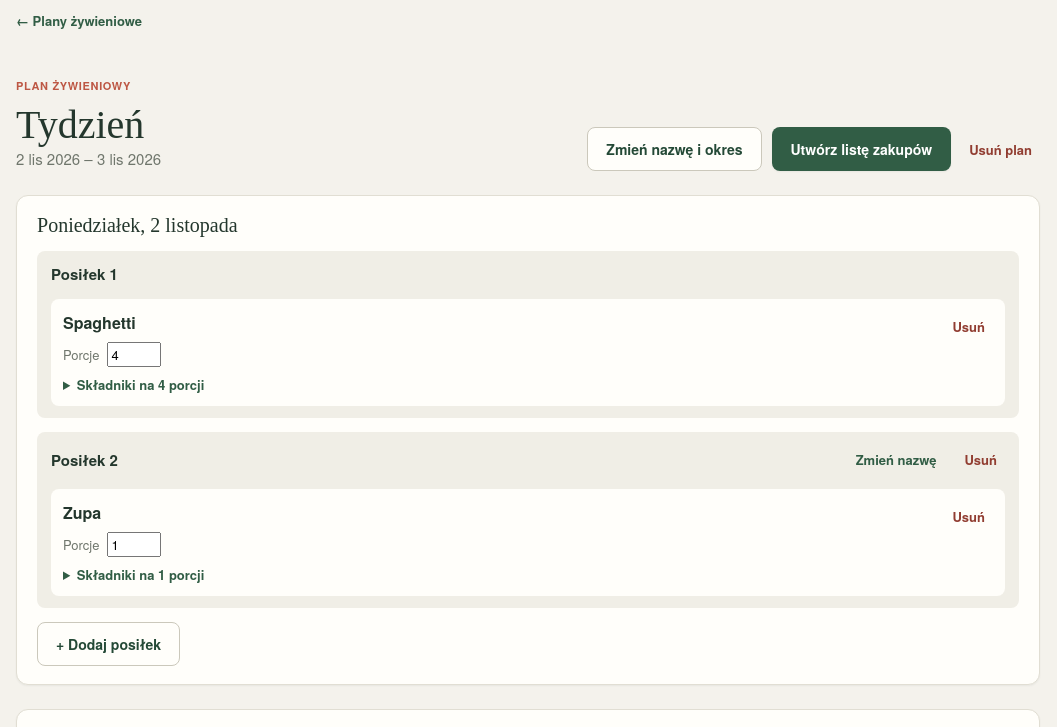
meal plan view › unchecking a whole day excludes all of its entries and blocks an empty list
Click the button "Utwórz listę zakupów" at point(861, 149), box [772, 127, 951, 171]
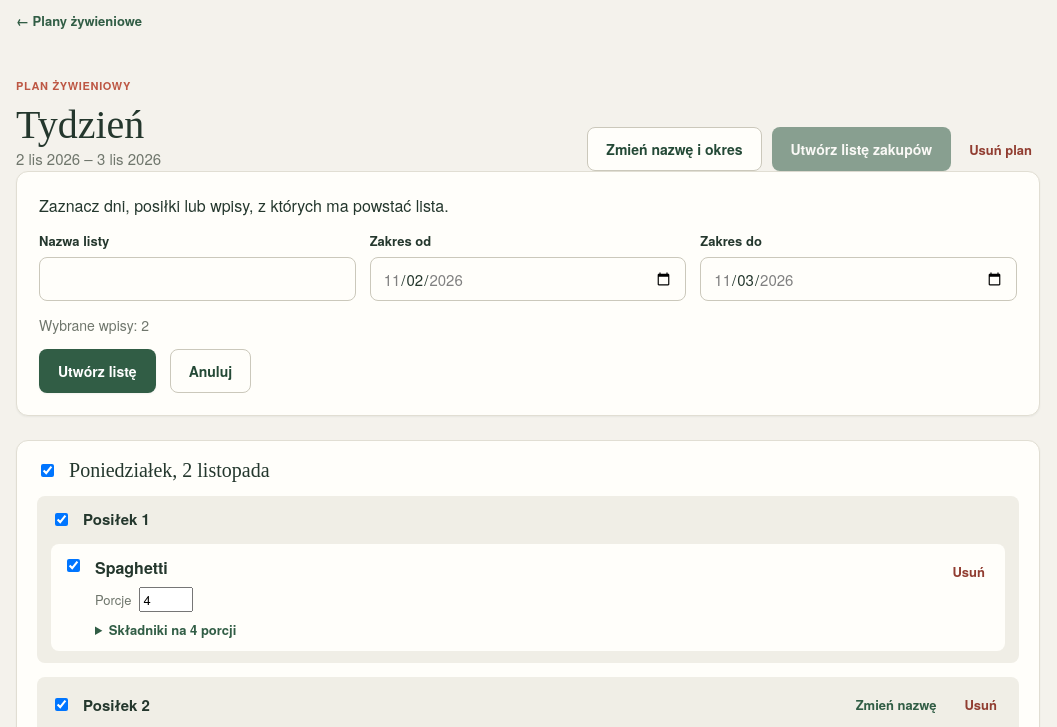
Click the checkbox named "Do listy cały dzień: poniedziałek" at point(48, 471), box [41, 464, 54, 477]
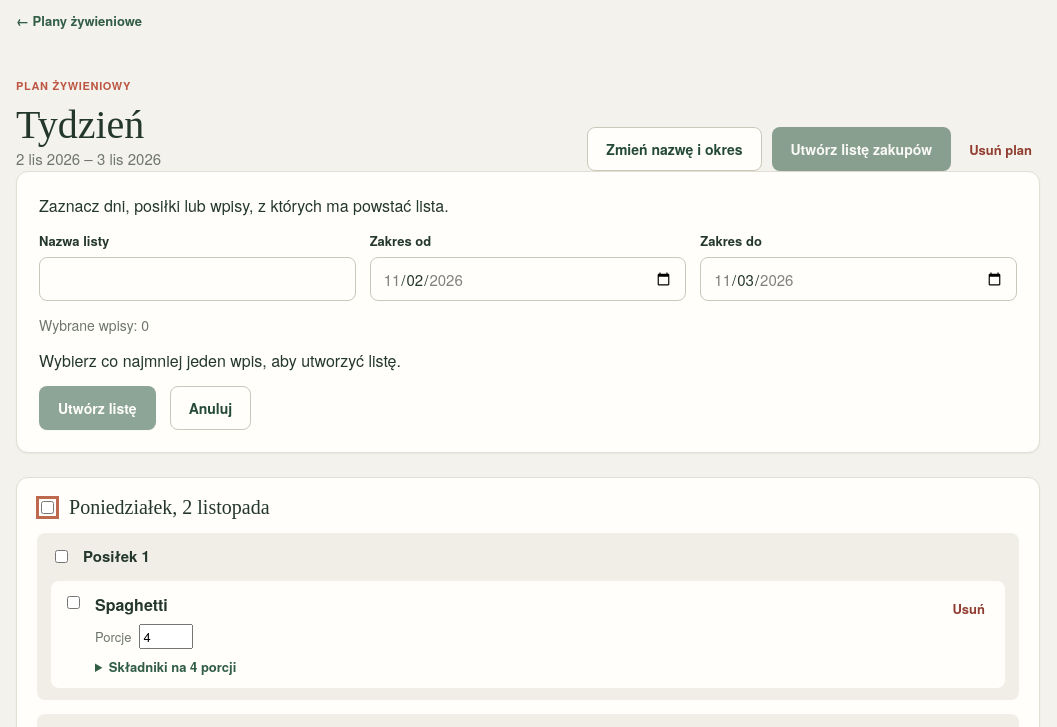
Expected: the text "Wybrane wpisy: 0" is shown, [39, 315, 149, 335]
Expected: the button "Utwórz listę" is disabled, [39, 386, 156, 430]
Expected: the text "Wybierz co najmniej jeden wpis, aby utworzyć listę." is shown, [39, 349, 401, 372]
